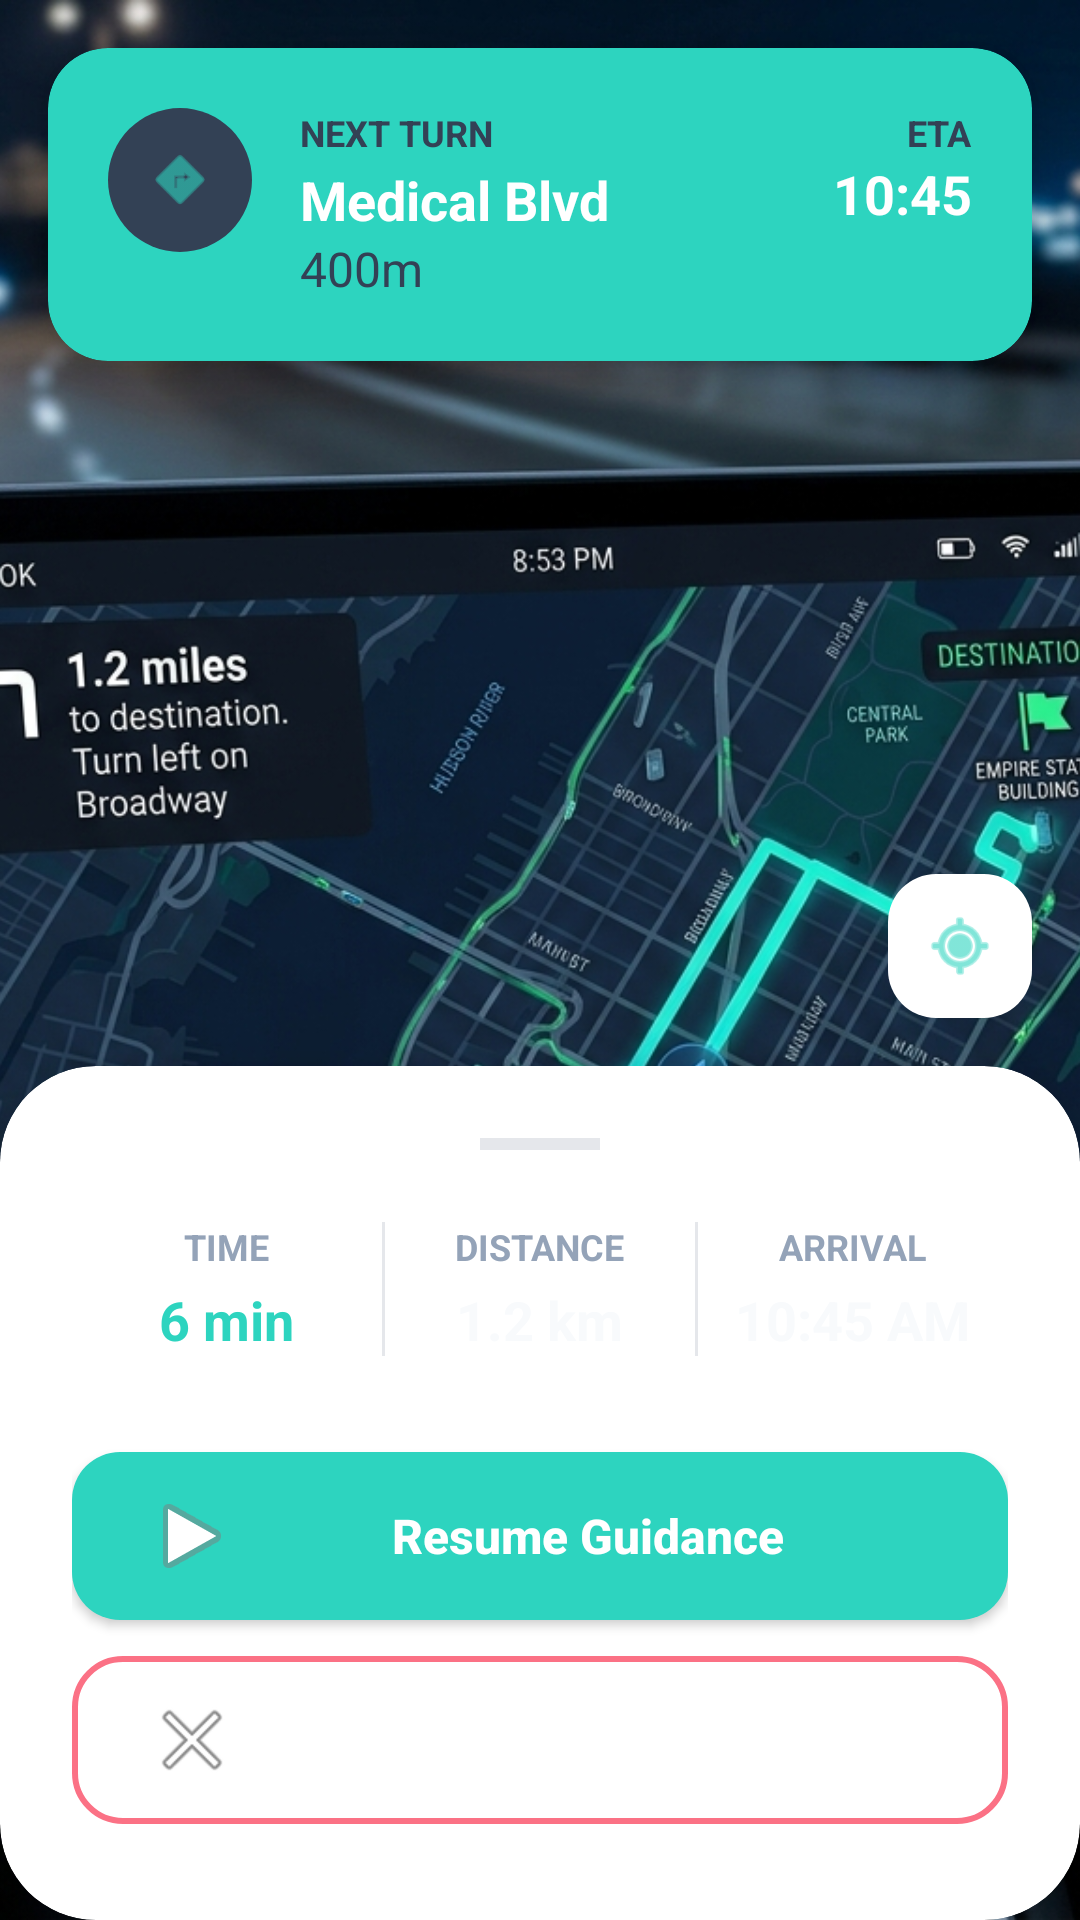

Point at icon controls on the screen. Image size 1080 x 1920, points as (x,y).
directions: (180,180)
mylocation: (960,946)
